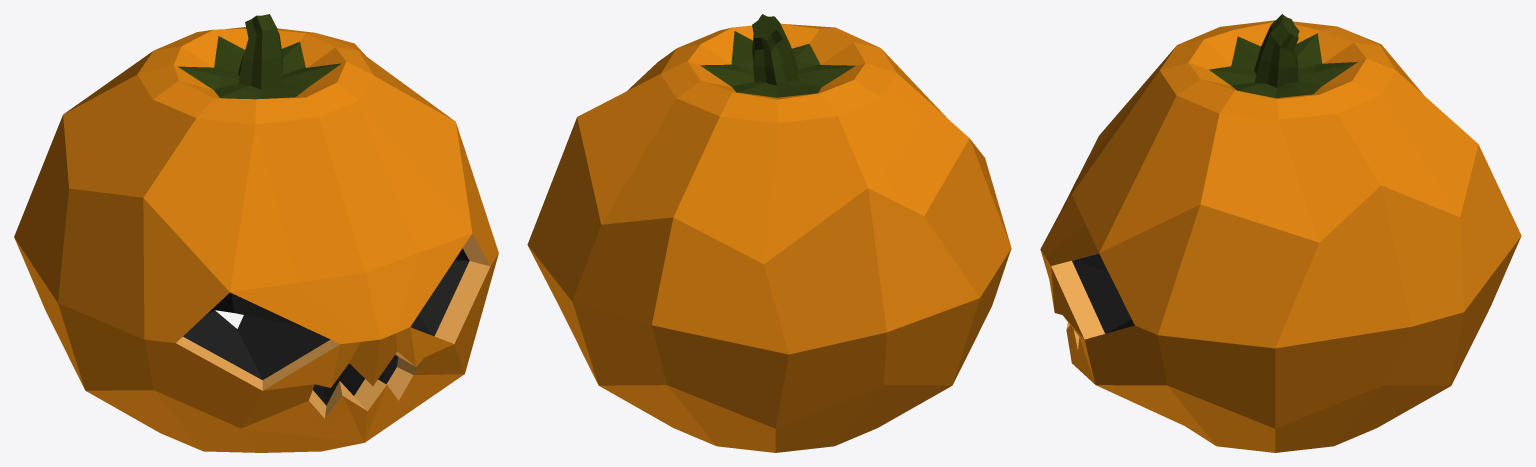
The model's file is PumpkinV2.glb.
3 views of the same model, side by side, from view 1: azimuth 30°, elevation 25°; view 2: azimuth 150°, elevation 25°; view 3: azimuth 270°, elevation 25° (orthographic).
Parts seen in each view (by area): view 1: PumpkinV2; view 2: PumpkinV2; view 3: PumpkinV2.
Part boxes in pixels (<box>): PumpkinV2: <box>14,14,498,452</box>; PumpkinV2: <box>527,14,1011,452</box>; PumpkinV2: <box>1040,14,1521,452</box>.
Size of the model in its own units: 0.2 by 0.1824 by 0.2049.
Materials: 2 (2 with a texture image).
